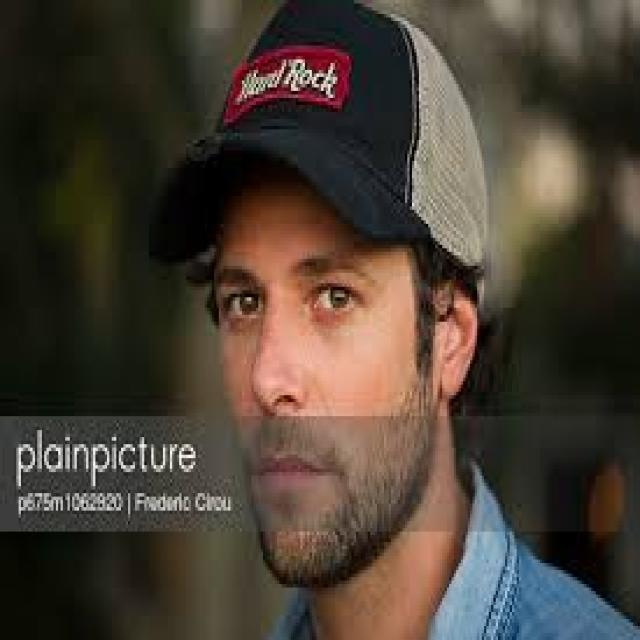cap: (149, 0, 493, 588)
